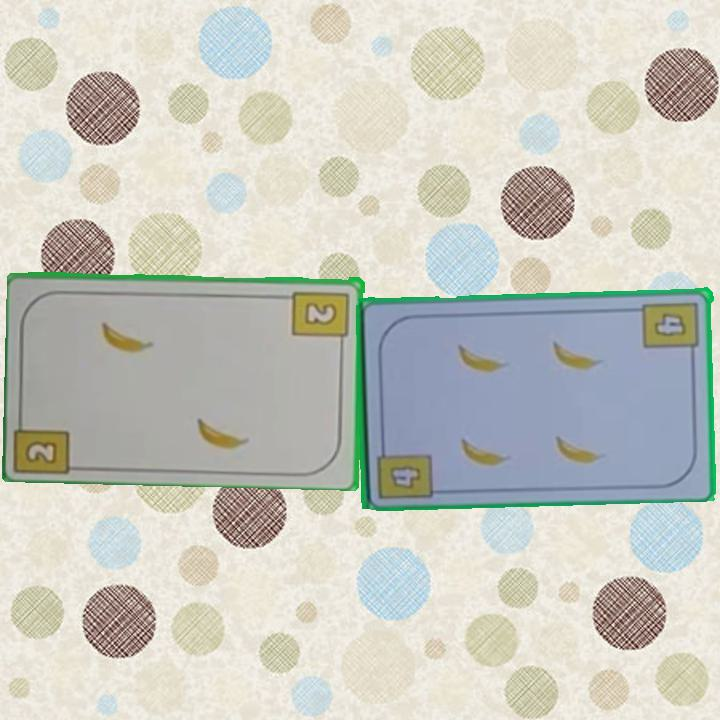2b: (290, 287, 352, 349), (22, 437, 61, 467)
4b: (640, 298, 703, 360), (386, 461, 425, 492)
